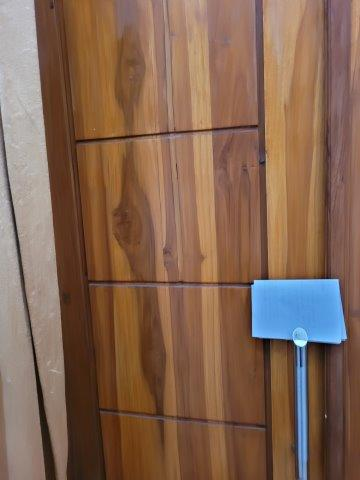kertas: (250, 279, 347, 345)
